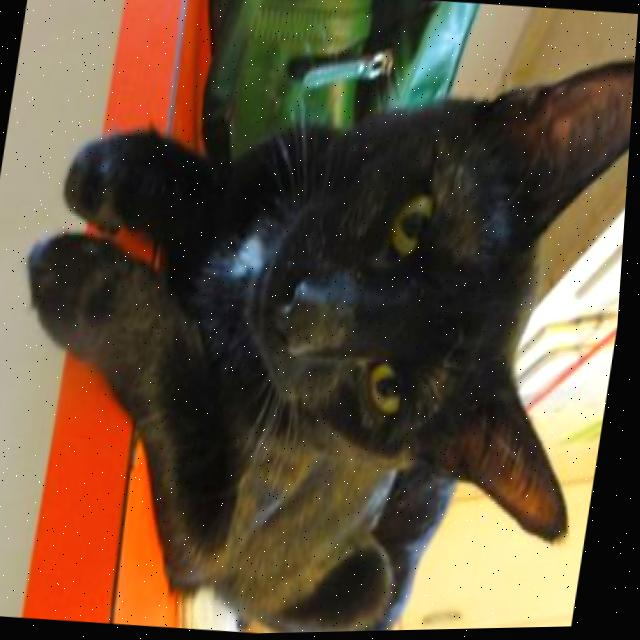Bombay: (0, 7, 639, 640)
